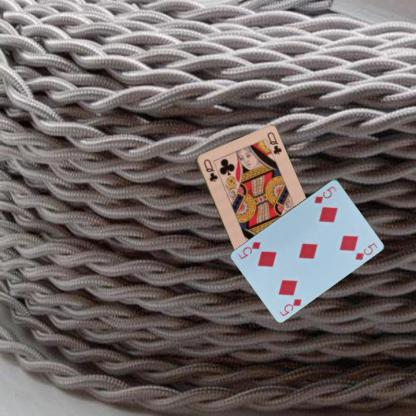5d: (311, 183, 338, 205), (277, 296, 303, 317)
Qc: (200, 157, 219, 183)
